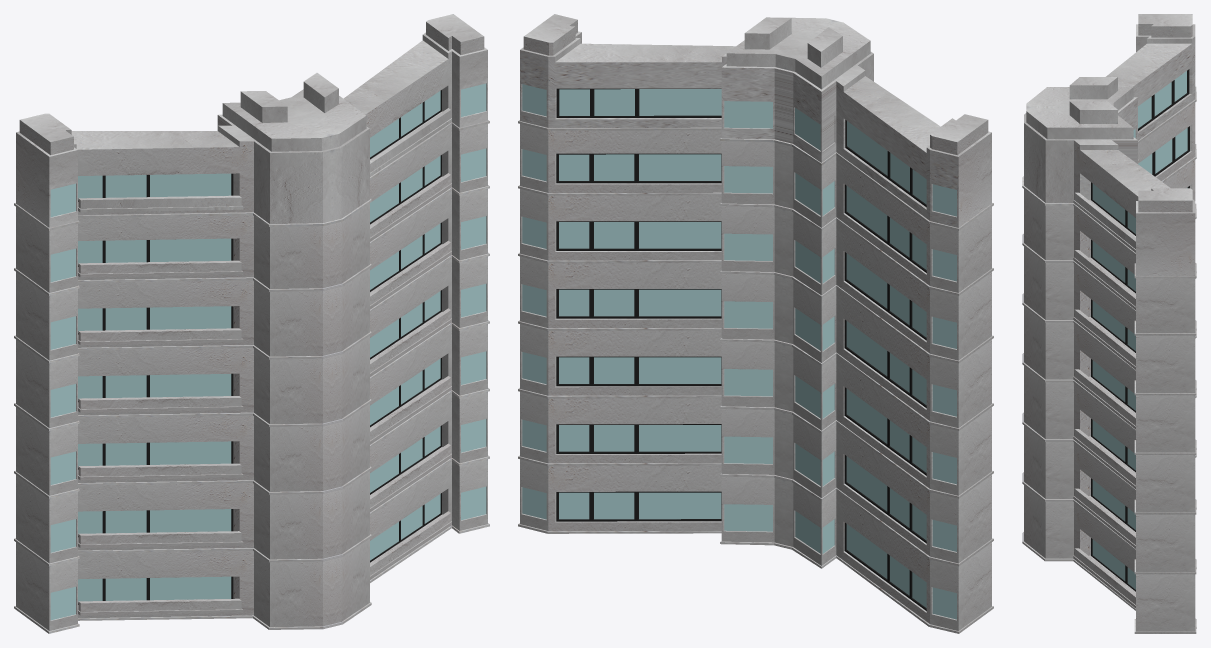
Rendered from flat.fbx.
3 renders of one model, left to right at view 1: azimuth 30°, elevation 25°; view 2: azimuth 150°, elevation 25°; view 3: azimuth 270°, elevation 25°, orthographic. The views are drawn at different scales.
Visible parts, largest first — view 1: dak_flat; view 2: dak_flat; view 3: dak_flat.
Boxes of the visible parts, x1,y1,x2,y2 form: dak_flat: (14, 14, 489, 633); dak_flat: (518, 14, 993, 633); dak_flat: (1022, 14, 1196, 633).
Size of the model in its own units: 14208 by 15555 by 5520.
3 materials, 1 textured.
